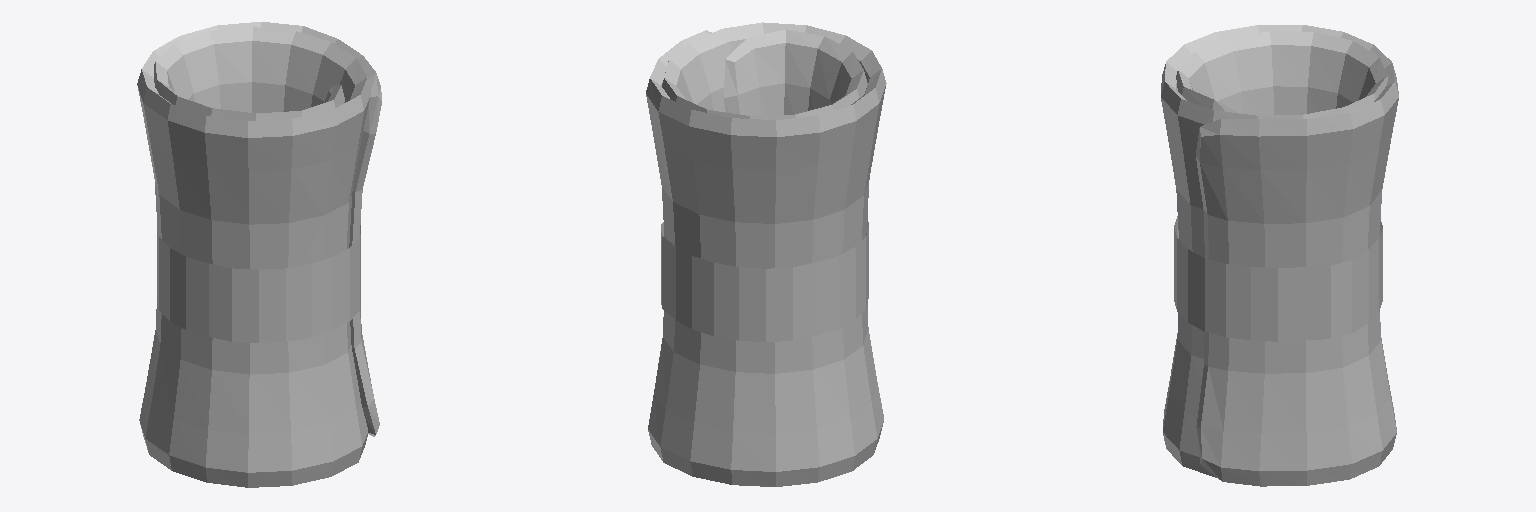
File: bandage.obj
The picture shows the model from 3 angles: view 1: azimuth 30°, elevation 25°; view 2: azimuth 150°, elevation 25°; view 3: azimuth 270°, elevation 25°; orthographic projection.
Visible parts, largest first — view 1: Bandage; view 2: Bandage; view 3: Bandage.
Boxes of the visible parts, x1,y1,x2,y2 form: Bandage: [137, 22, 381, 487]; Bandage: [646, 22, 886, 486]; Bandage: [1161, 25, 1398, 486].
Bounding box in the file's own units: 2.04 × 3.56 × 2.09.